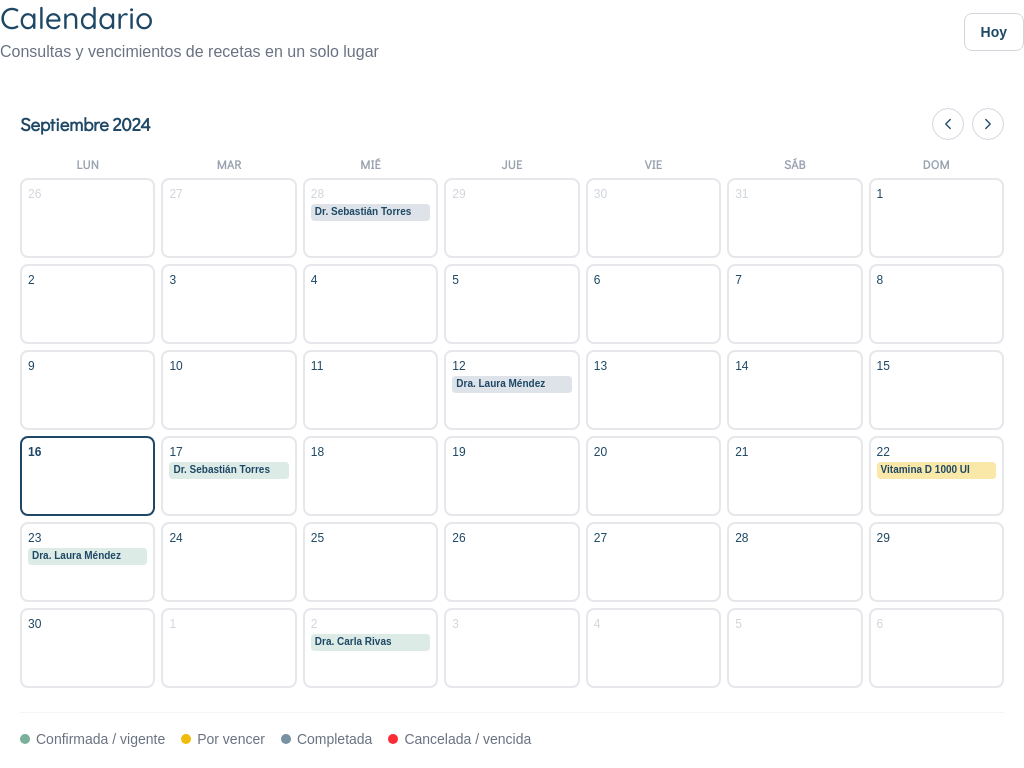
Test: CalendarioPage › clicking a day with a consultation shows its details in the modal
Click the button "17 Dr. Sebastián Torres" at point(229, 476), box [161, 436, 297, 516]
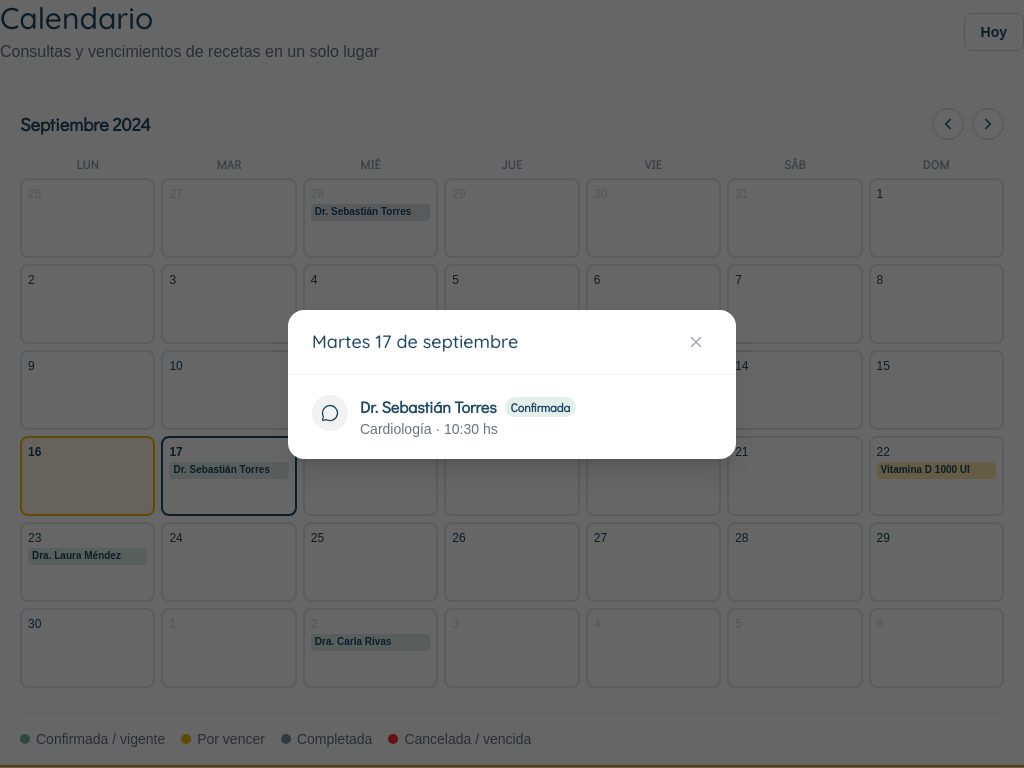
Check: the text "Dr. Sebastián Torres" is shown, box [360, 394, 497, 418]
Check: the text "Confirmada" is shown, box [505, 396, 576, 416]
